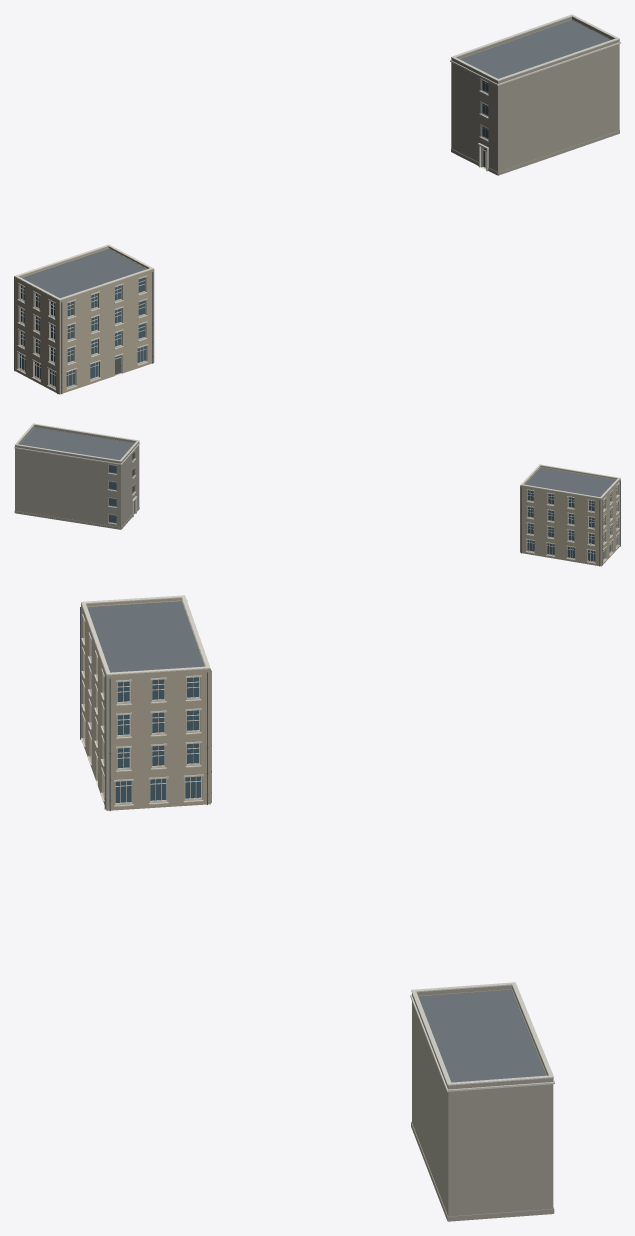
File: replacement.glb
The picture shows the model from 3 angles, top to bottom: view 1: azimuth 30°, elevation 25°; view 2: azimuth 150°, elevation 25°; view 3: azimuth 270°, elevation 25°; orthographic projection. The views are drawn at different scales.
Visible parts, largest first — view 1: Campus rear 1133279024 | pierced service wing masonry, Queens Gate rear703836510 | pierced masonry, Campus rear 1133279024 | complete concave roof deck, Queens Gate rear703836510 | concave roof membrane, Queens Gate rear703836510 | recessed glazing, Campus rear 1133279024 | stone parapet coping, Campus rear 1133279024 | service wing parapet, Queens Gate rear703836510 | painted joinery, Queens Gate rear703836510 | mitred coping, Queens Gate rear703836510 | low parapet, Campus rear 1133279024 | plain brick plinth, Queens Gate rear703836510 | rainwater downpipes (+2 smaller); view 2: Campus rear 1133279024 | pierced service wing masonry, Queens Gate rear703836510 | pierced masonry, Campus rear 1133279024 | complete concave roof deck, Queens Gate rear703836510 | concave roof membrane, Queens Gate rear703836510 | recessed glazing, Campus rear 1133279024 | stone parapet coping, Campus rear 1133279024 | service wing parapet, Queens Gate rear703836510 | painted joinery, Queens Gate rear703836510 | mitred coping, Campus rear 1133279024 | plain brick plinth, Queens Gate rear703836510 | low parapet, Queens Gate rear703836510 | window mullions (+5 smaller); view 3: Campus rear 1133279024 | pierced service wing masonry, Queens Gate rear703836510 | pierced masonry, Campus rear 1133279024 | complete concave roof deck, Queens Gate rear703836510 | concave roof membrane, Queens Gate rear703836510 | recessed glazing, Campus rear 1133279024 | stone parapet coping, Queens Gate rear703836510 | mitred coping, Campus rear 1133279024 | service wing parapet, Queens Gate rear703836510 | painted joinery, Campus rear 1133279024 | plain brick plinth, Queens Gate rear703836510 | rainwater downpipes, Queens Gate rear703836510 | low parapet.
Part boxes in pixels (x1,y1,x2,y2): Campus rear 1133279024 | pierced service wing masonry: (451,19,619,171); Queens Gate rear703836510 | pierced masonry: (14,248,154,394); Campus rear 1133279024 | complete concave roof deck: (460,20,610,78); Queens Gate rear703836510 | concave roof membrane: (22,249,146,298); Queens Gate rear703836510 | recessed glazing: (19,277,145,386); Campus rear 1133279024 | stone parapet coping: (451,14,619,81); Campus rear 1133279024 | service wing parapet: (451,17,619,83); Queens Gate rear703836510 | painted joinery: (18,277,146,387); Queens Gate rear703836510 | mitred coping: (14,244,153,300); Queens Gate rear703836510 | low parapet: (14,246,154,302); Campus rear 1133279024 | plain brick plinth: (451,130,619,175); Queens Gate rear703836510 | rainwater downpipes: (14,271,153,394); Campus rear 1133279024 | pierced service wing masonry: (15,427,139,527); Queens Gate rear703836510 | pierced masonry: (520,467,620,566); Campus rear 1133279024 | complete concave roof deck: (20,427,134,460); Queens Gate rear703836510 | concave roof membrane: (525,467,615,496); Queens Gate rear703836510 | recessed glazing: (527,486,617,561); Campus rear 1133279024 | stone parapet coping: (15,423,139,461); Campus rear 1133279024 | service wing parapet: (15,425,139,463); Queens Gate rear703836510 | painted joinery: (526,485,618,562); Queens Gate rear703836510 | mitred coping: (520,464,620,498); Campus rear 1133279024 | plain brick plinth: (14,506,139,529); Queens Gate rear703836510 | low parapet: (520,466,620,500); Queens Gate rear703836510 | window mullions: (529,487,617,561); Campus rear 1133279024 | pierced service wing masonry: (412,989,553,1216); Queens Gate rear703836510 | pierced masonry: (81,600,210,810); Campus rear 1133279024 | complete concave roof deck: (418,990,545,1082); Queens Gate rear703836510 | concave roof membrane: (87,601,204,672); Queens Gate rear703836510 | recessed glazing: (115,677,200,802); Campus rear 1133279024 | stone parapet coping: (411,982,553,1085); Queens Gate rear703836510 | mitred coping: (81,595,210,675); Campus rear 1133279024 | service wing parapet: (412,985,553,1088); Queens Gate rear703836510 | painted joinery: (84,641,201,804); Campus rear 1133279024 | plain brick plinth: (411,1122,554,1221); Queens Gate rear703836510 | rainwater downpipes: (80,600,211,811); Queens Gate rear703836510 | low parapet: (81,598,210,678).
Size of the model in its own units: 105 by 13.63 by 42.79.
